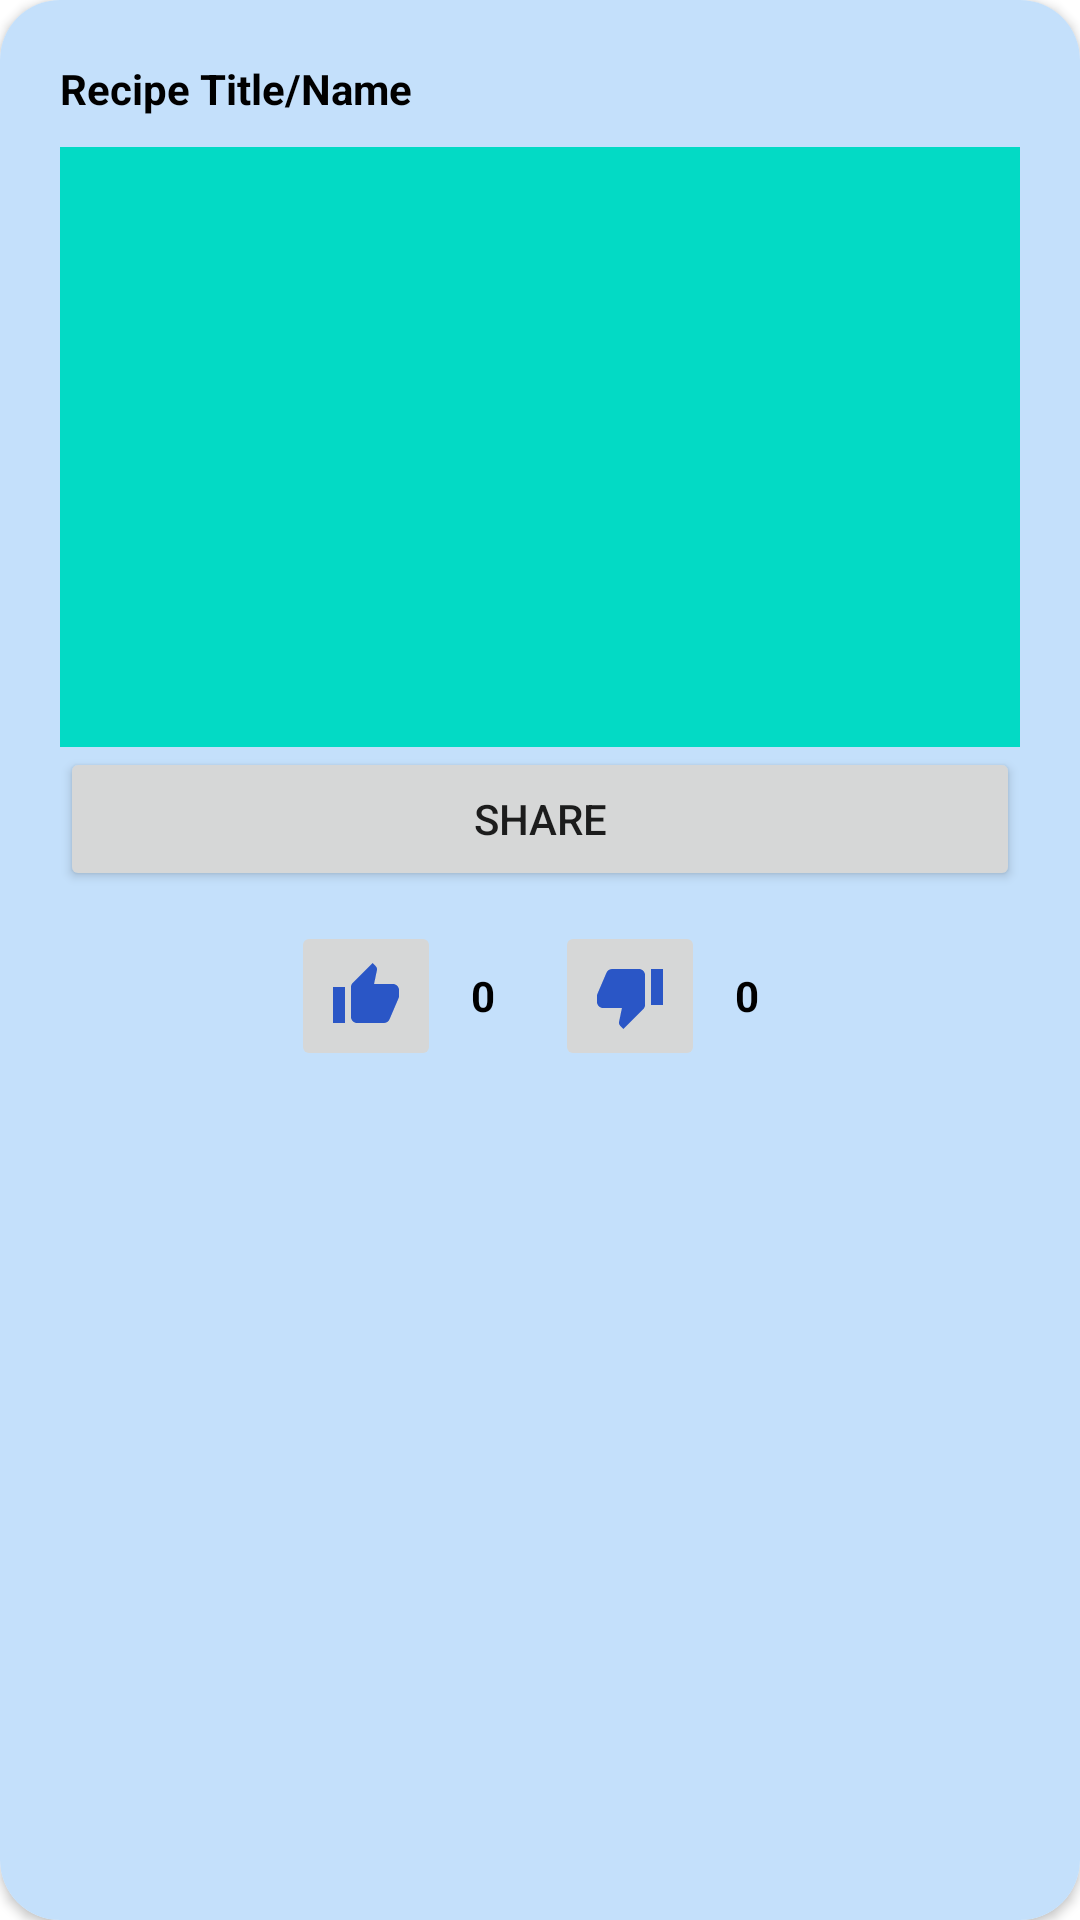

Where icons sit on this 1080px x 1920px app screen, as (x1, y1, x2, y2):
thumb down: (567, 939, 693, 1053)
thumb up: (303, 939, 429, 1053)
